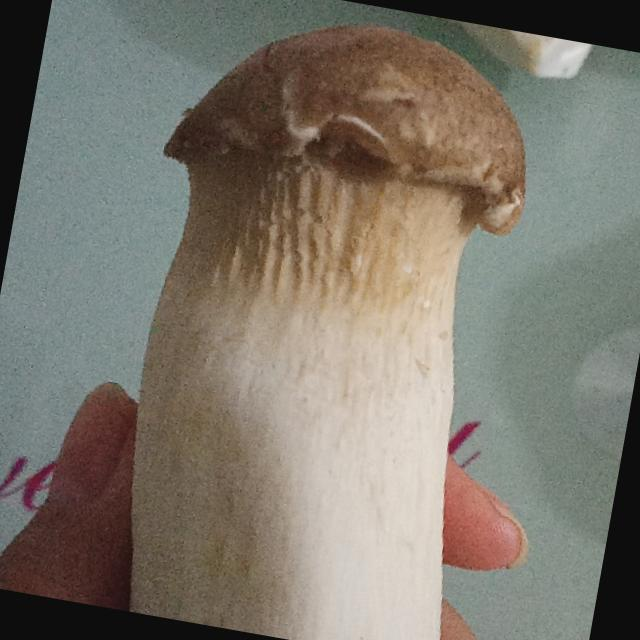Pleurotus eryngii: (82, 0, 551, 640)
